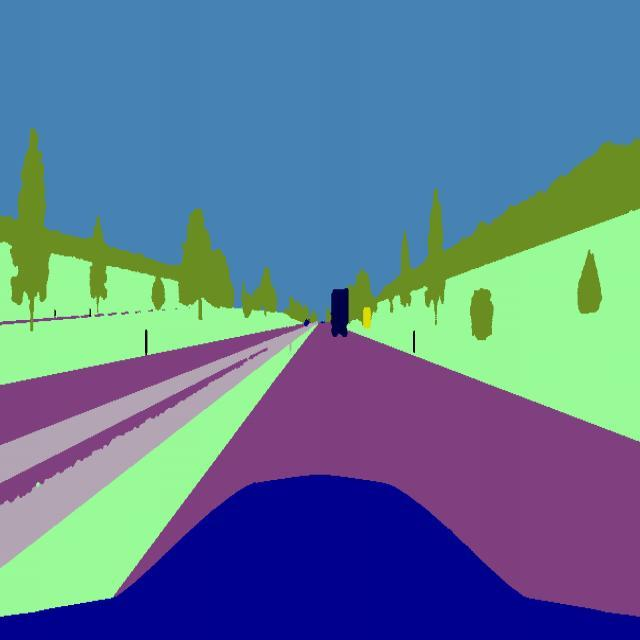safe: (327, 285, 352, 341)
